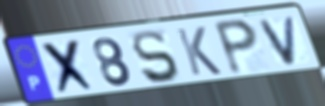8: (92, 37, 132, 88)
K: (174, 25, 225, 78)
P: (211, 17, 261, 78)
S: (130, 29, 182, 86)
V: (257, 13, 300, 67)
X: (39, 37, 100, 98)
